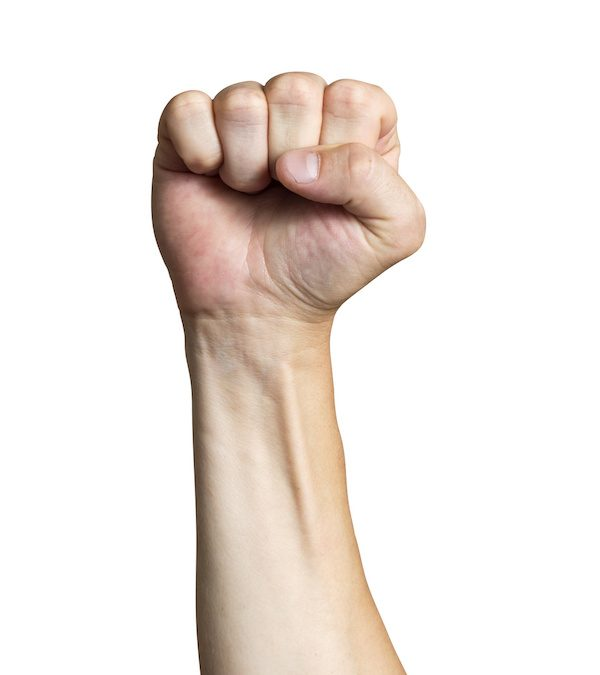fist: (141, 67, 430, 345)
